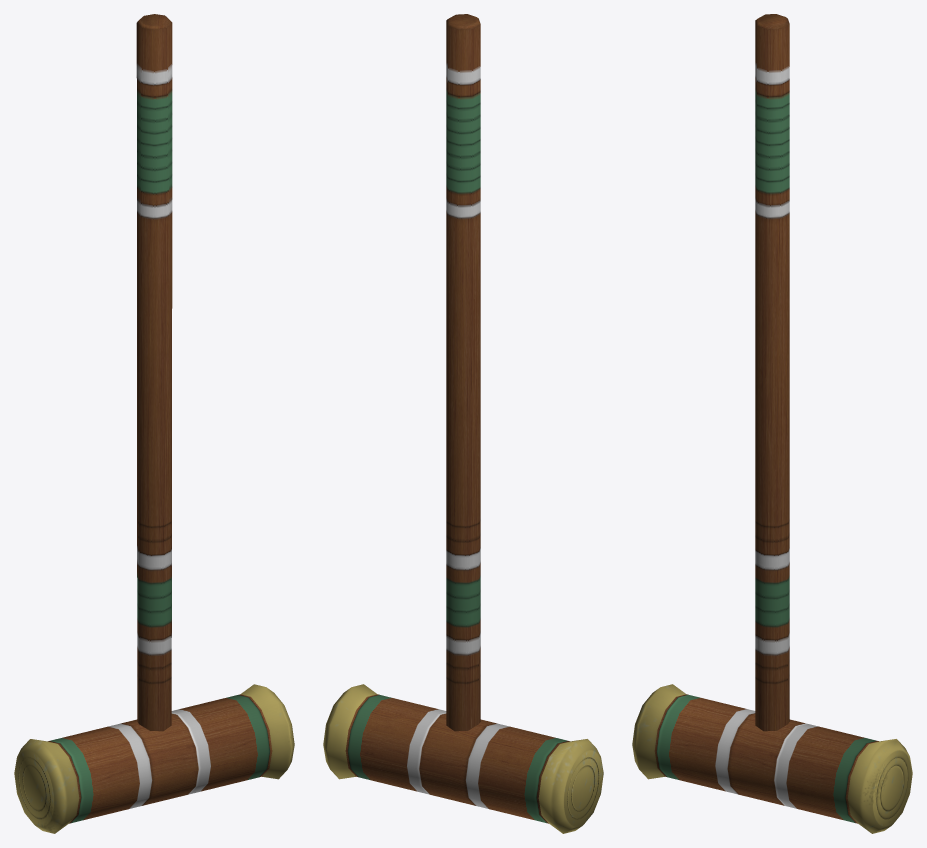
The model's file is CroquetMallet.FBX.
3 renders of one model, left to right at view 1: azimuth 30°, elevation 25°; view 2: azimuth 150°, elevation 25°; view 3: azimuth 330°, elevation 25°, orthographic.
Visible parts, largest first — view 1: Stick_low; view 2: Stick_low; view 3: Stick_low.
Boxes of the visible parts, x1=… form: Stick_low: x1=14, y1=14, x2=294, y2=833; Stick_low: x1=323, y1=14, x2=603, y2=833; Stick_low: x1=632, y1=14, x2=912, y2=833.
Bounding box in the file's own units: 31.04 × 96.94 × 11.03.
